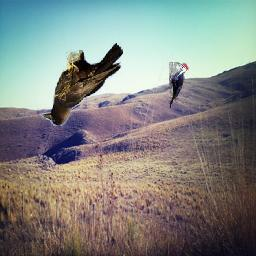Crow: (41, 40, 124, 129)
Woodpecker: (169, 62, 189, 108)
